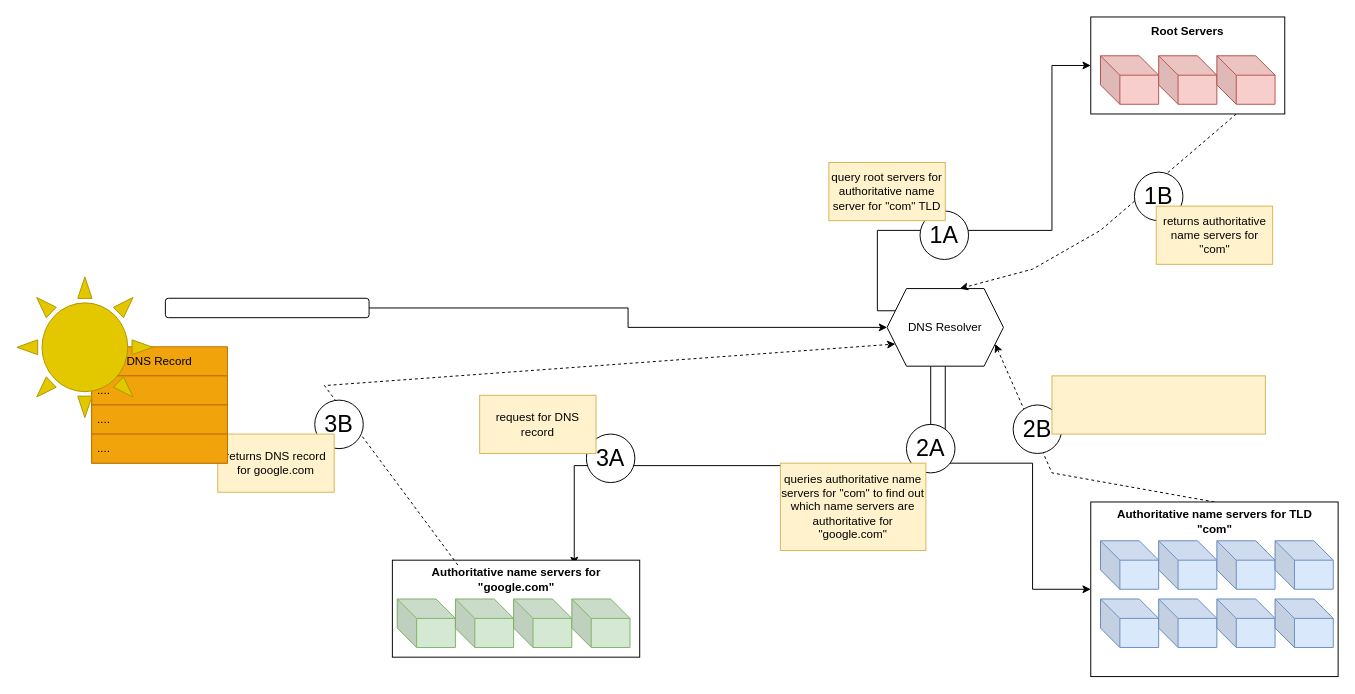
Image size: 1355x694. Some labels were removed from this diagram. Here are the shapes that lost their labels. From the top down, the centre of each, then its label:
[266,307]: https://www.google.com
[1158,404]: returns authoritative name servers (provided by google.com) for "google.com"
